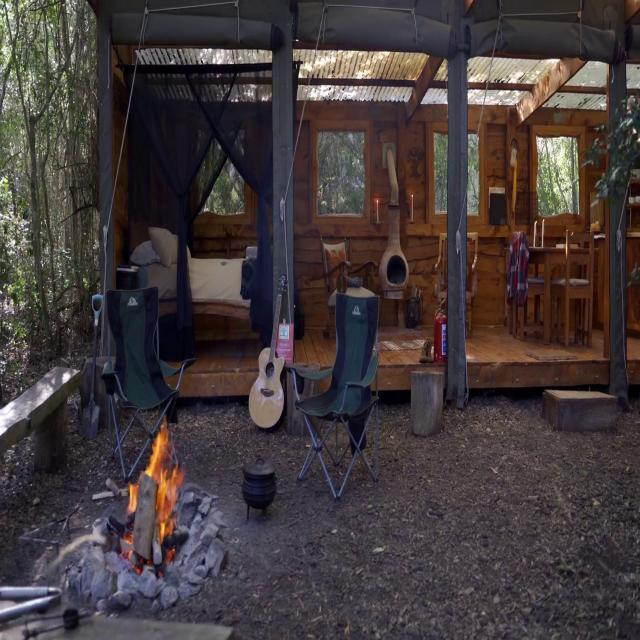Fire: (146, 419, 182, 548)
